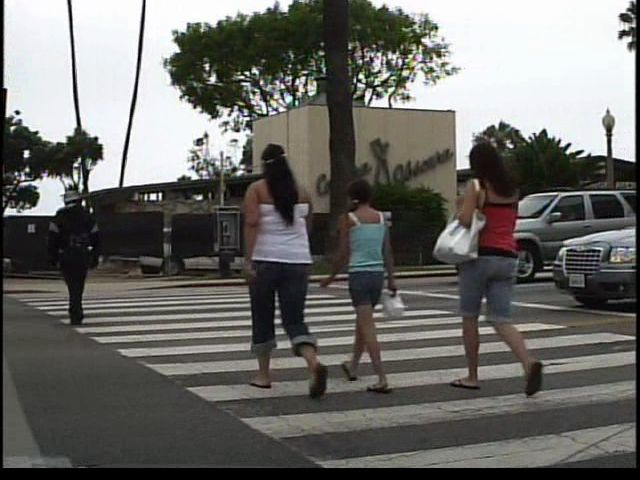person: (235, 133, 336, 406), (447, 134, 546, 402), (329, 171, 403, 396), (38, 181, 104, 332)
